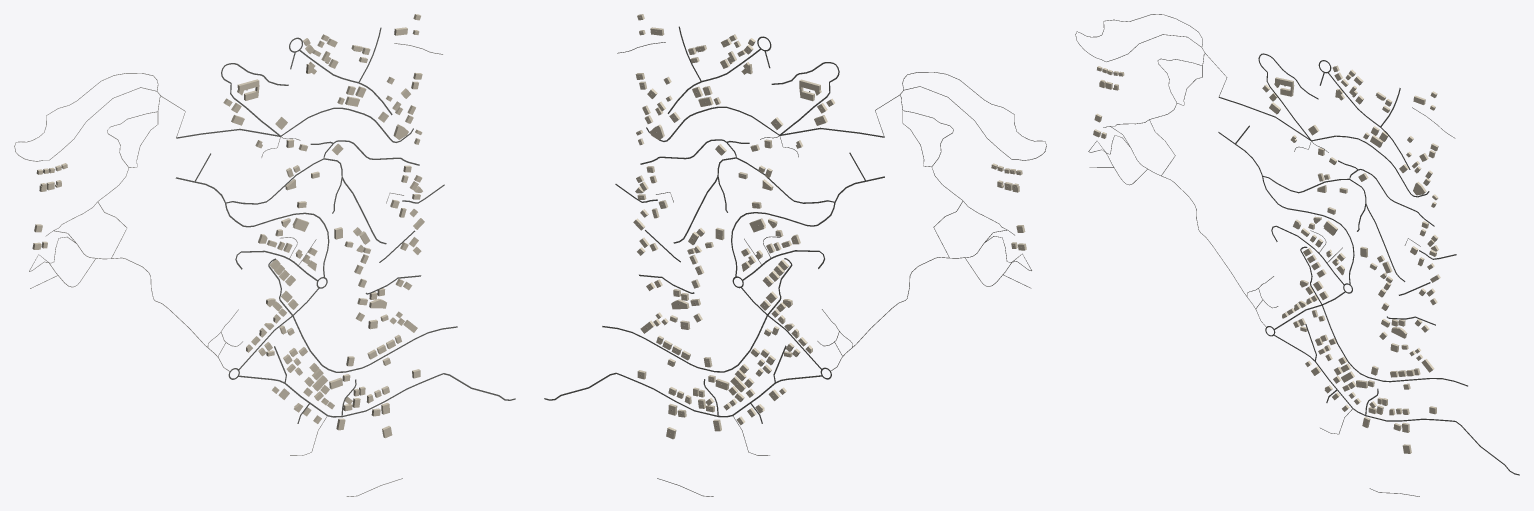
File: historic-palestine-11_33_3525_3271.glb
3 views of the same model, side by side, from view 1: azimuth 30°, elevation 25°; view 2: azimuth 150°, elevation 25°; view 3: azimuth 330°, elevation 25° (orthographic). The views are drawn at different scales.
Parts seen in each view (by area): view 1: Road فاضل أبو راس; view 2: Road فاضل أبو راس; view 3: Road فاضل أبو راس.
Boxes of the visible parts, bbox=[...] form: Road فاضل أبو راس: bbox=[238, 373, 515, 417]; Road فاضل أبو راس: bbox=[544, 372, 822, 417]; Road فاضل أبو راس: bbox=[1274, 335, 1519, 475].
Bounding box in the file's own units: 1235 × 1132 × 8.7.
